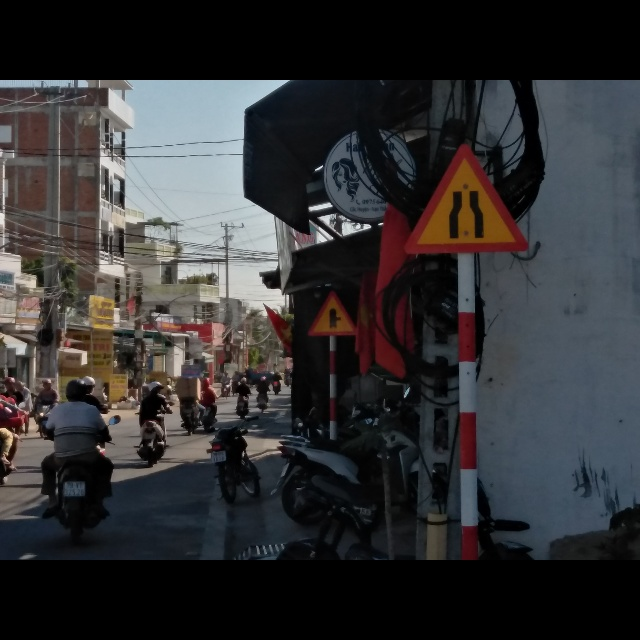Giao nhau với đường không ưu tiên: (309, 291, 358, 337)
Đường bị hẹp cả hai bên: (402, 141, 532, 255)
